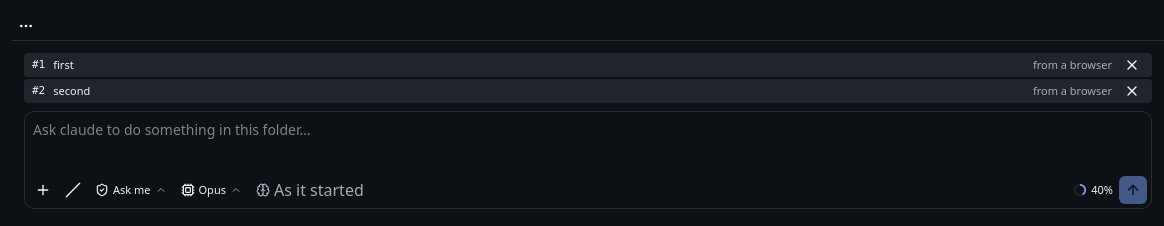
Test: the queue of prompts, above the box — plan 08, B-34 › takes one out before it reaches Claude, and the rest move up — S-157
Click the button named "Take prompt 1 out of the queue": (1132,65) x1=1120 y1=53 x2=1144 y2=77
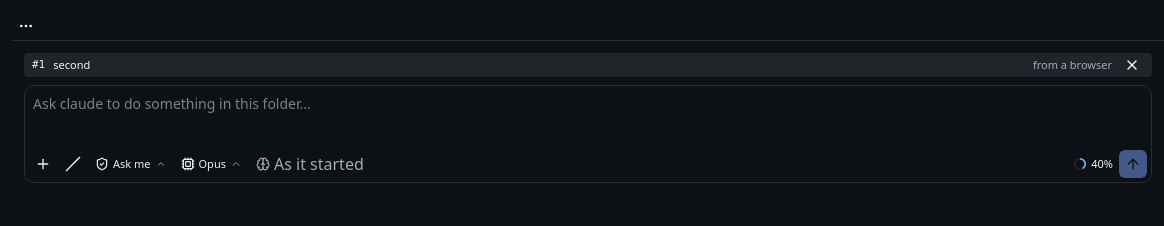
expect the text "second" is shown: met, box x1=53 y1=57 x2=90 y2=72
expect the number of list items is 1: met, box x1=24 y1=53 x2=1152 y2=77
